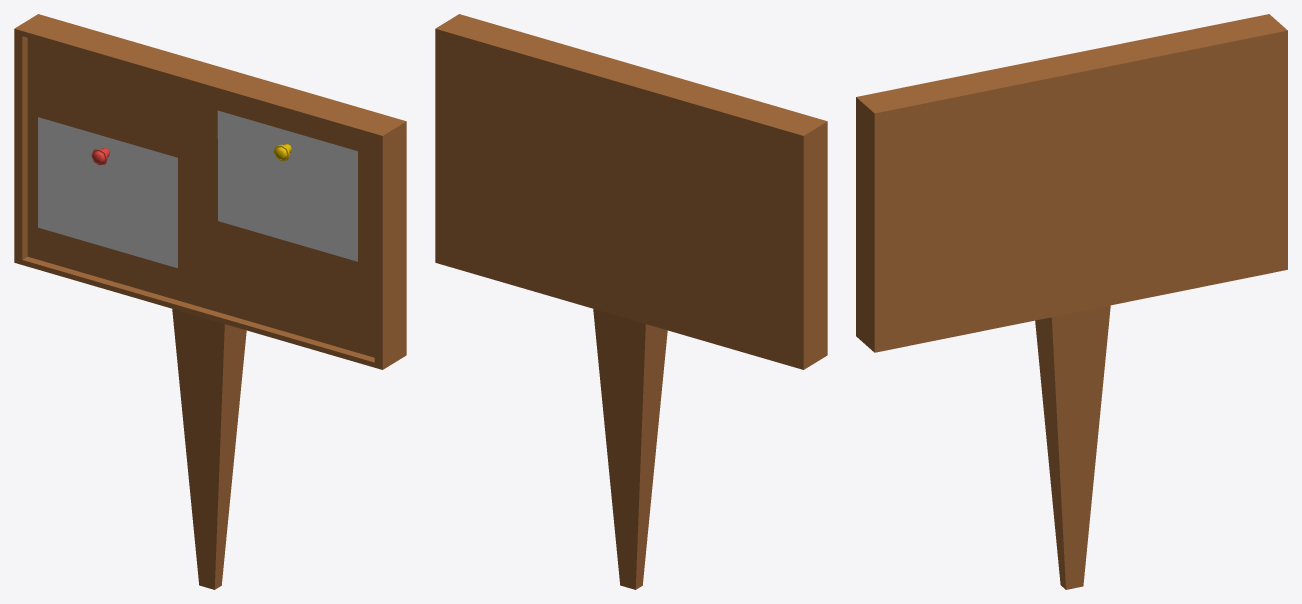
File: Sign_post_Billboard.fbx
The picture shows the model from 3 angles, left to right: view 1: azimuth 30°, elevation 25°; view 2: azimuth 210°, elevation 25°; view 3: azimuth 270°, elevation 25°; orthographic projection. The views are drawn at different scales.
Parts seen in each view (by area): view 1: Cube, Plane, Plane.001; view 2: Cube; view 3: Cube.
Boxes of the visible parts, <box> form: Cube: <box>14,14,406,589</box>; Plane: <box>217,110,357,261</box>; Plane.001: <box>38,117,177,268</box>; Cube: <box>435,14,827,589</box>; Cube: <box>856,14,1287,589</box>.
Bounding box in the file's own units: 5.86 × 14.34 × 10.75.
